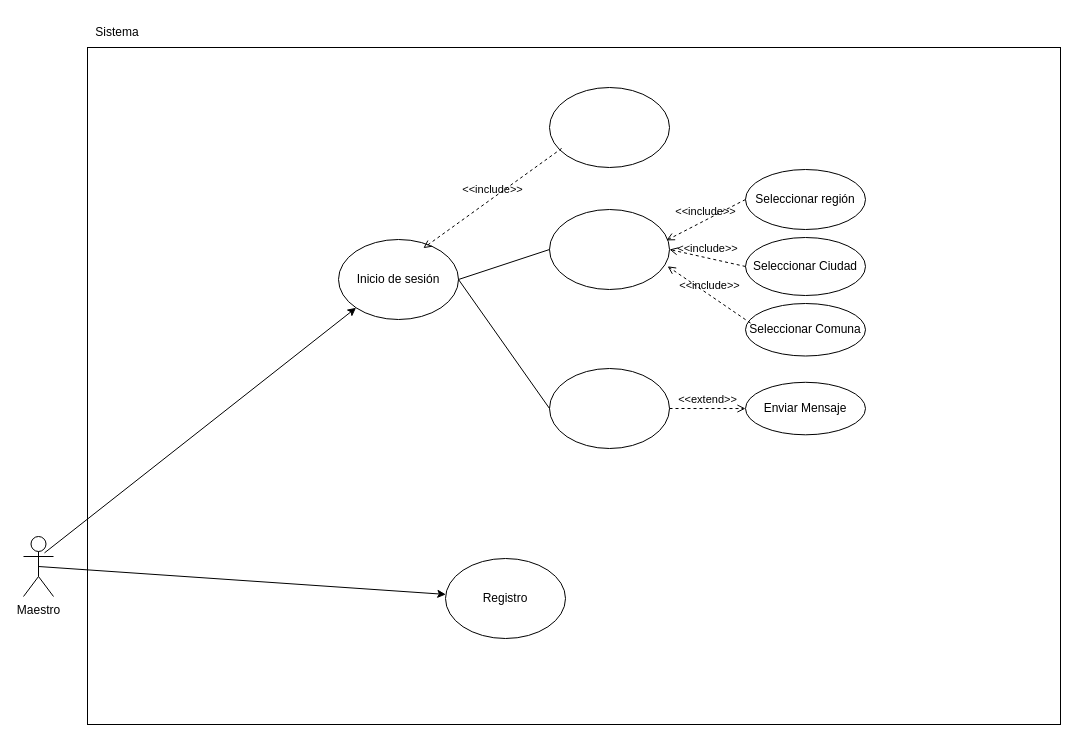
This 1078x742 diagram has some shape labels left out. The shapes that lost their labels are listed below. From the top down, each one's centre as x and y in pixels, then its label:
point 609,127: Cerrar Sesión
point 609,249: Buscar Cliente
point 609,408: Ver Perfil
